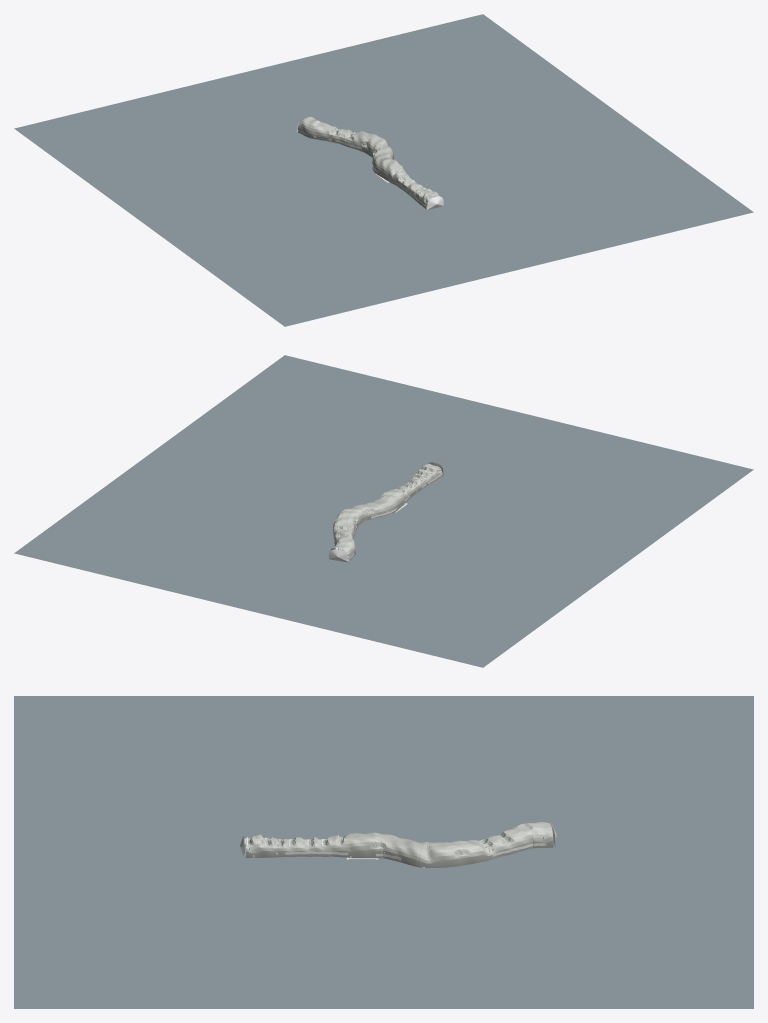
The model's file is GulletMine_StylizedLowPoly.fbx.
The picture shows the model from 3 angles, top to bottom: view 1: azimuth 30°, elevation 25°; view 2: azimuth 150°, elevation 25°; view 3: azimuth 270°, elevation 25°; orthographic projection. The views are drawn at different scales.
Parts seen in each view (by area): view 1: SafetyFloor, cave_001; view 2: SafetyFloor, cave_001; view 3: SafetyFloor, cave_001.
Boxes of the visible parts, left/top/right/bottom form: SafetyFloor: left=14, top=14, right=753, bottom=326; cave_001: left=298, top=116, right=438, bottom=208; SafetyFloor: left=14, top=355, right=753, bottom=667; cave_001: left=329, top=464, right=442, bottom=561; SafetyFloor: left=14, top=696, right=753, bottom=1008; cave_001: left=246, top=822, right=553, bottom=867.
Bounding box in the file's own units: 22000 × 1461 × 22000.
